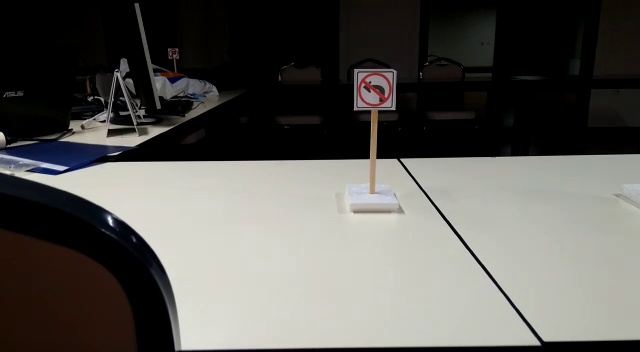sola_donulmez: (355, 64, 398, 111)
